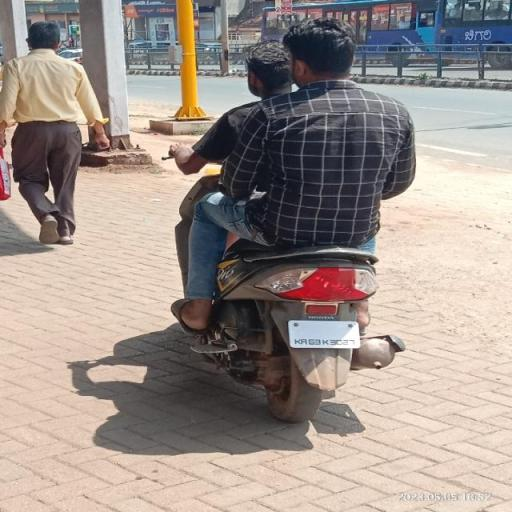bike: (161, 22, 441, 436)
numberplate: (290, 322, 365, 354)
withouthelmet: (288, 22, 349, 88), (251, 40, 293, 98)
